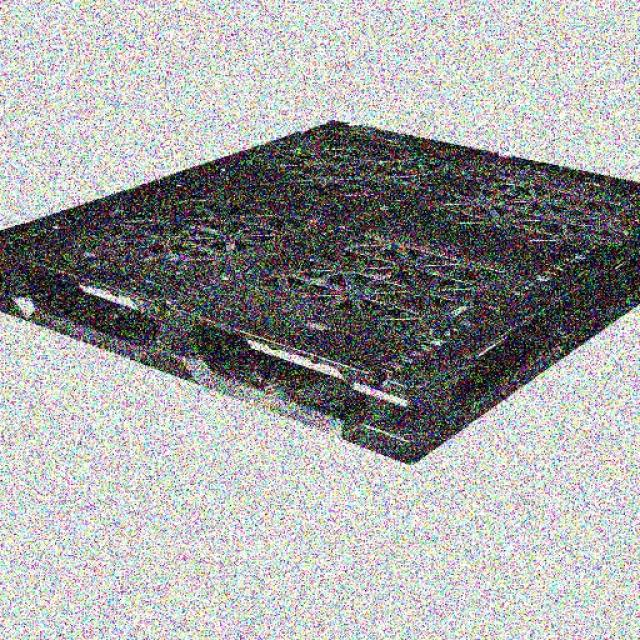non-igps: (4, 117, 640, 467)
